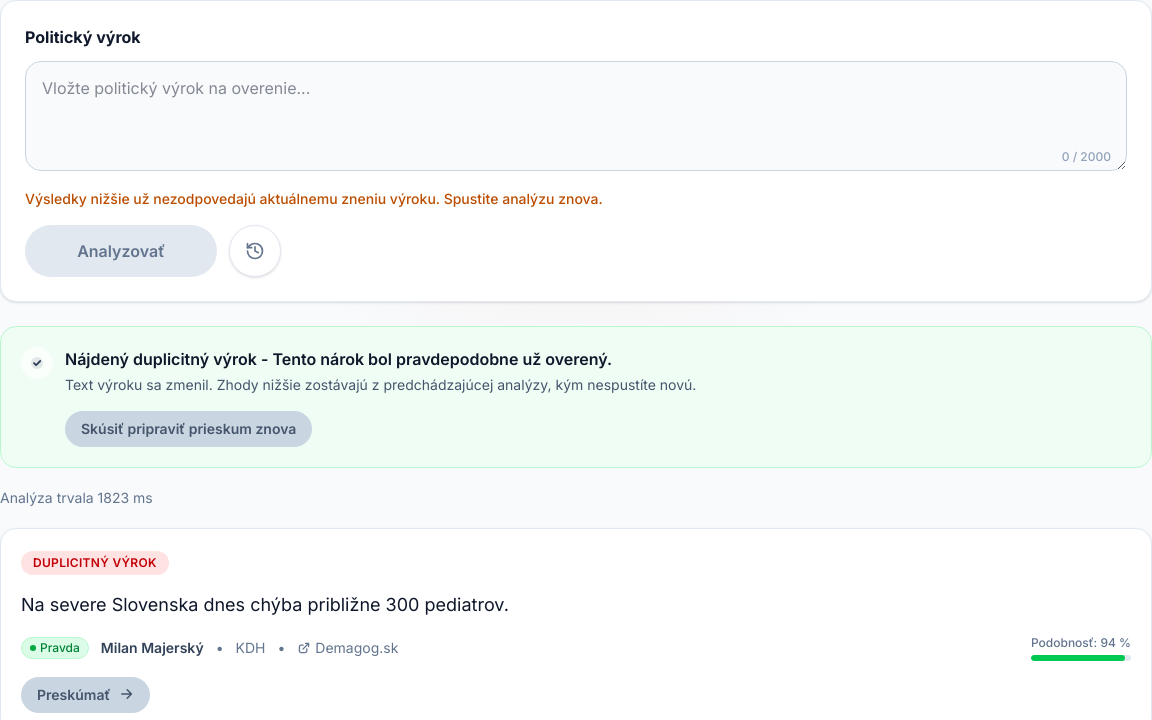
it: detect page flow › opens the in-app add modal from the fallback result state
Type "Na severe Slovenska chýbajú asi tri stovky pediatrov." into the text box labelled "Politický výrok".
click(576, 116); type("Na severe Slovenska chýbajú asi tri stovky pediatrov.")  # box 25,61 -> 1127,171
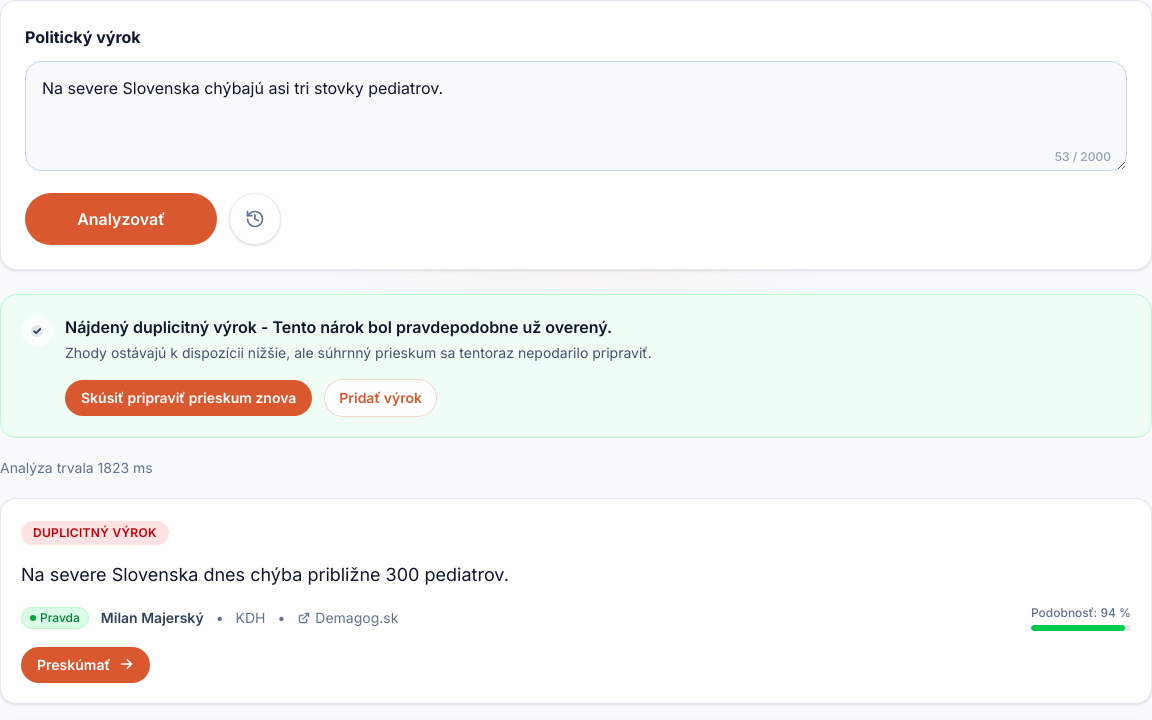
Click the button "Pridať výrok".
click(381, 398)  # box 324,379 -> 437,417
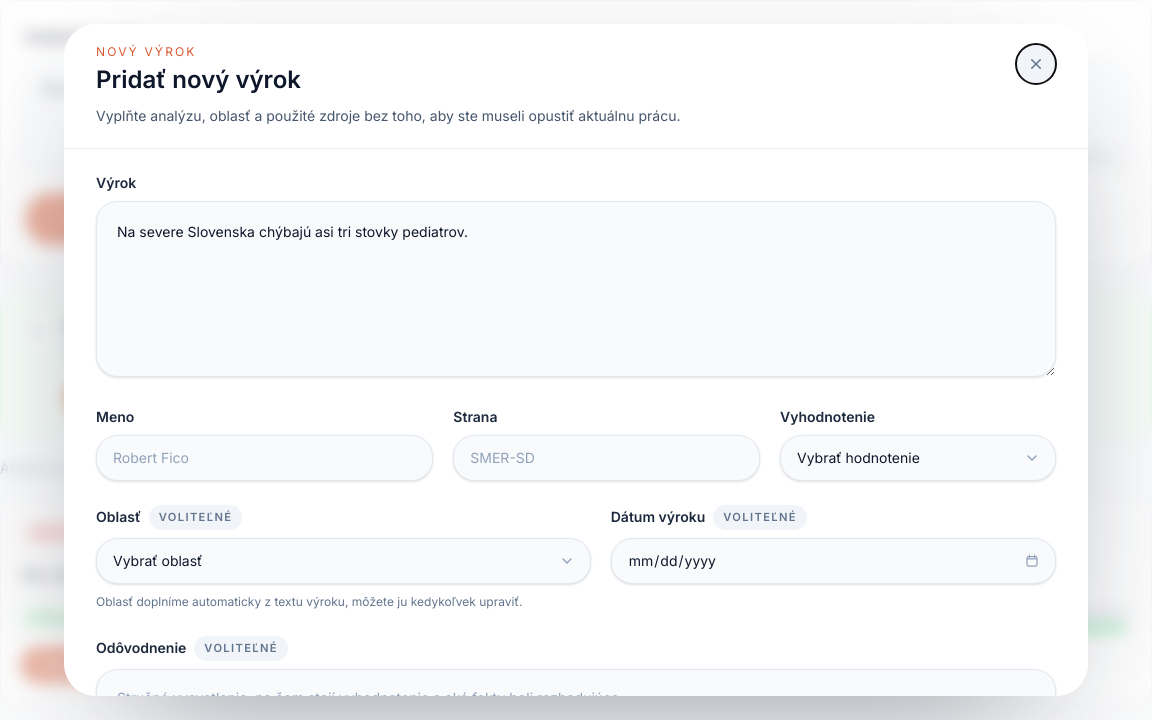
Expected: the dialog "Pridať nový výrok" is shown
